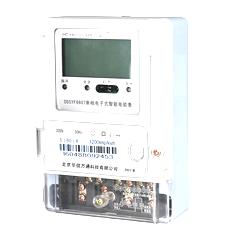digital: (32, 17, 171, 178)
